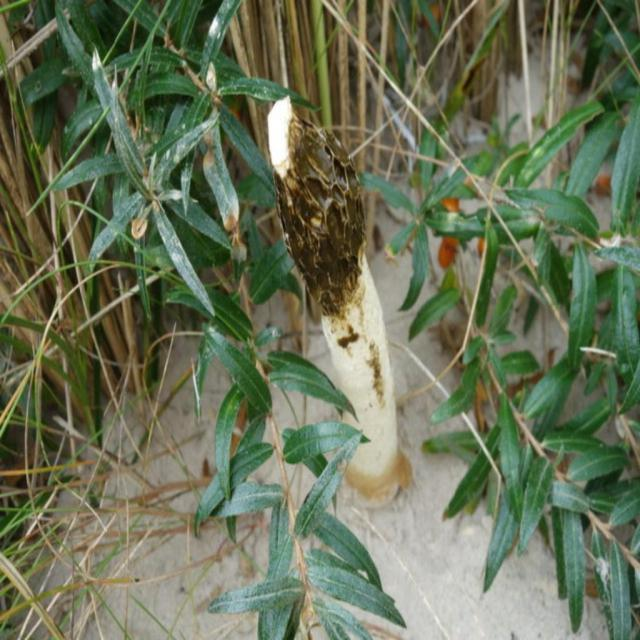Dictyophora indusiate: (265, 95, 414, 499)
